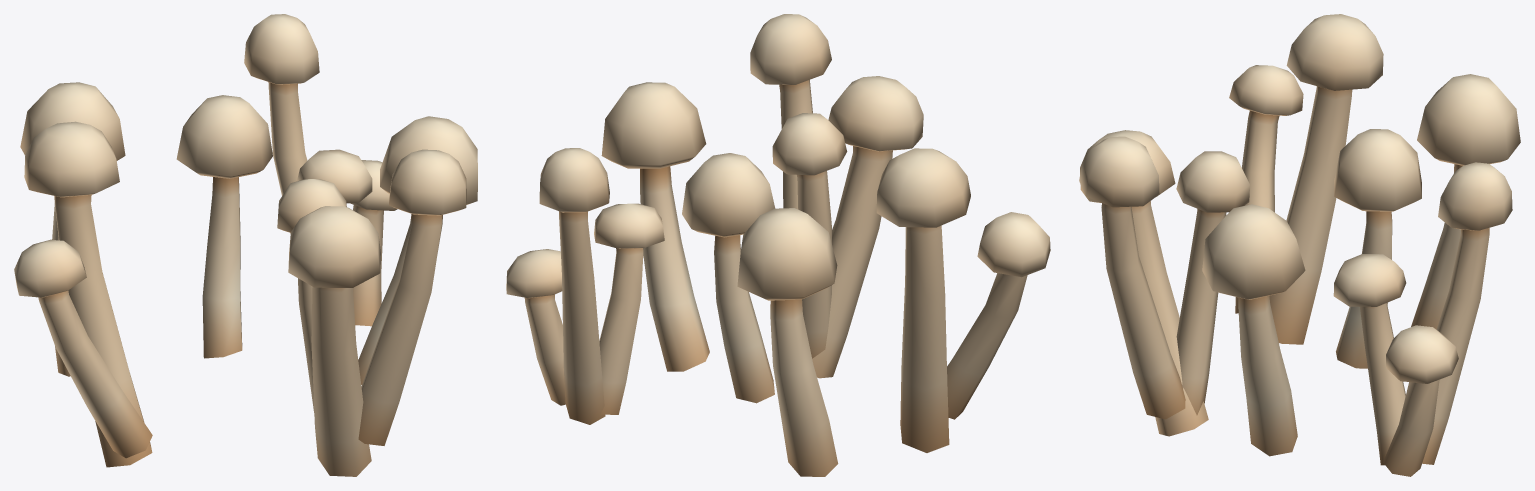
The model's file is SM_Plant_WhiteBeech_Lv1.fbx.
3 views of the same model, side by side, from view 1: azimuth 30°, elevation 25°; view 2: azimuth 150°, elevation 25°; view 3: azimuth 270°, elevation 25° (orthographic). The views are drawn at different scales.
Visible parts, largest first — view 1: SM_Plant_WhiteBeech_Lv1; view 2: SM_Plant_WhiteBeech_Lv1; view 3: SM_Plant_WhiteBeech_Lv1.
Part boxes in pixels (left/top/right/bottom): SM_Plant_WhiteBeech_Lv1: left=14, top=14, right=477, bottom=476; SM_Plant_WhiteBeech_Lv1: left=506, top=14, right=1050, bottom=476; SM_Plant_WhiteBeech_Lv1: left=1079, top=14, right=1520, bottom=476.
Size of the model in its own units: 30.43 by 20.62 by 25.69.
